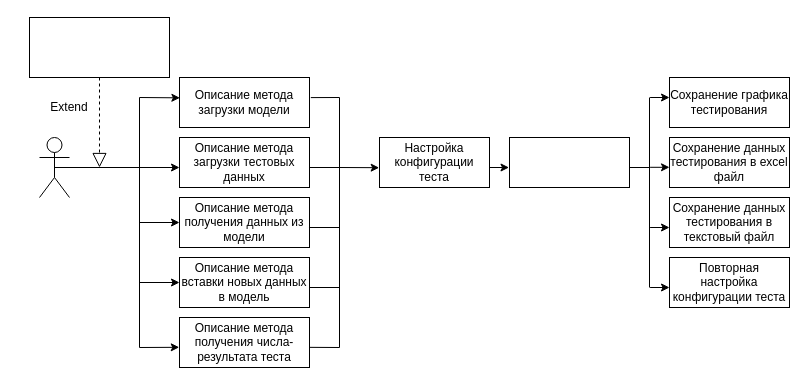
This 807x385 diagram has some shape labels left out. Each missing label, with the box of its shape:
Запуск тестирования: (508, 136, 630, 188)
Подключение родительского класса с интерфейсом и логикой программы: (28, 16, 170, 78)
Программист: (38, 136, 70, 198)
